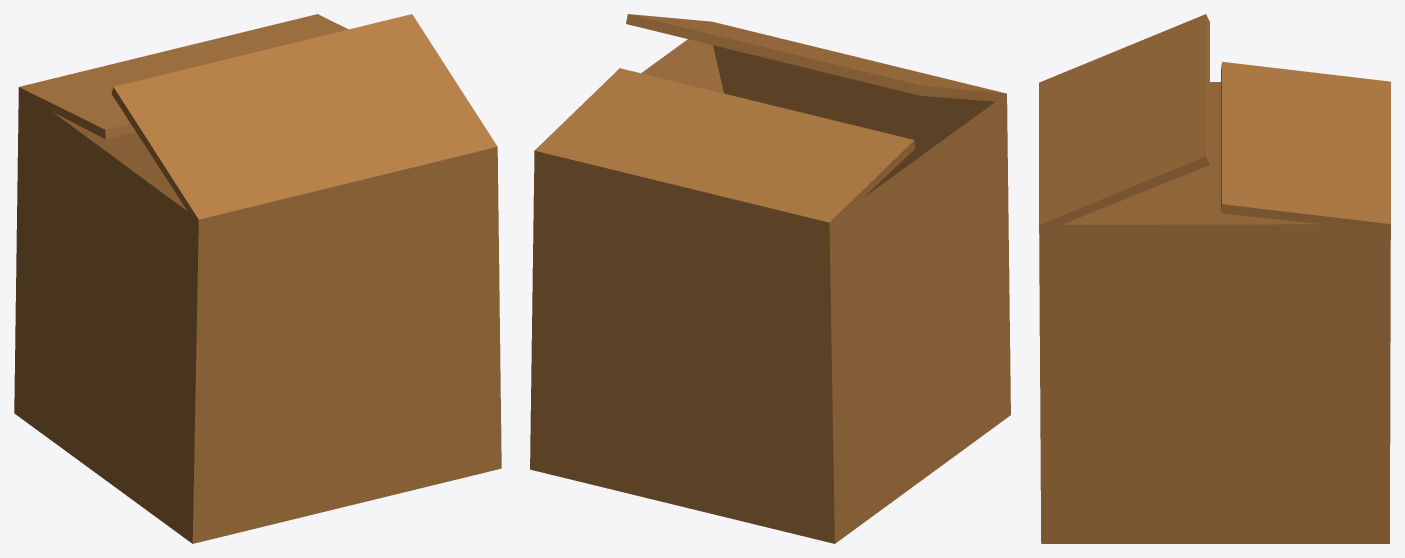
File: recyclable2.glb
3 views of the same model, side by side, from view 1: azimuth 30°, elevation 25°; view 2: azimuth 150°, elevation 25°; view 3: azimuth 270°, elevation 25° (orthographic). The views are drawn at different scales.
Parts seen in each view (by area): view 1: Cube; view 2: Cube; view 3: Cube.
Boxes of the visible parts, x1,y1,x2,y2 form: Cube: (14,14,501,543); Cube: (530,14,1010,543); Cube: (1039,14,1390,543).
Bounding box in the file's own units: 4.14 × 5.04 × 4.18.
